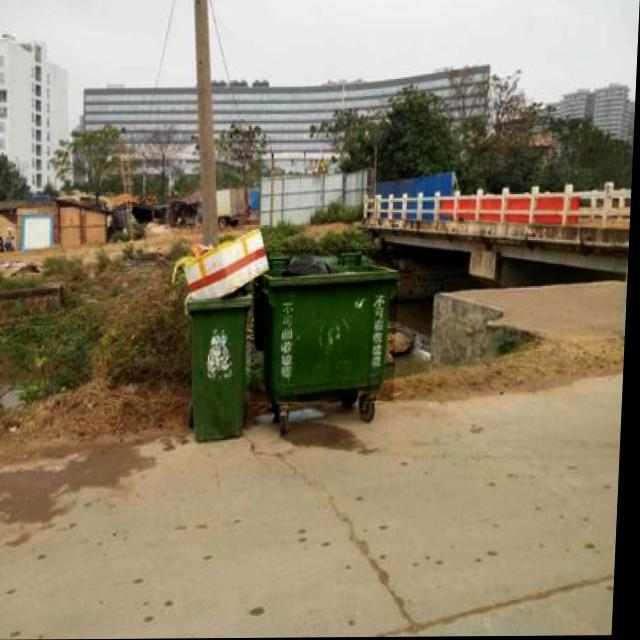overflow: (253, 250, 402, 403), (167, 229, 272, 439)
